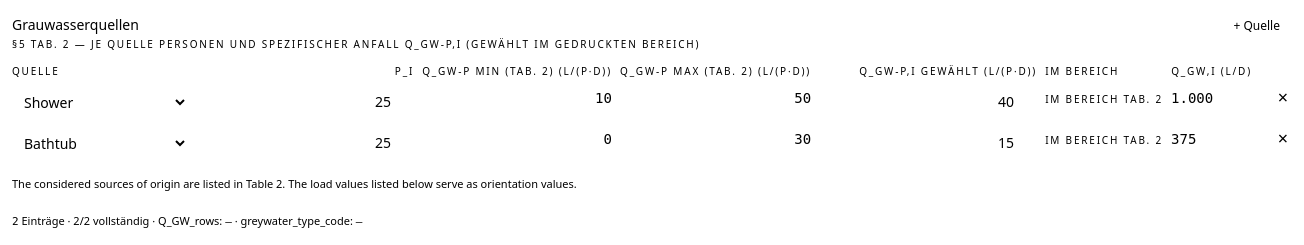
Test: grauwasserquellen through the generic RegisterEditor (Plan 3 Task 4) › a pick outside the printed range is flagged, never blocked; changing the source re-fills the range
Replace the text in the number field named "gewählter spezifischer Grauwasseranfall" in the row of "10" with "60": [928, 102] box [819,88,1037,116]
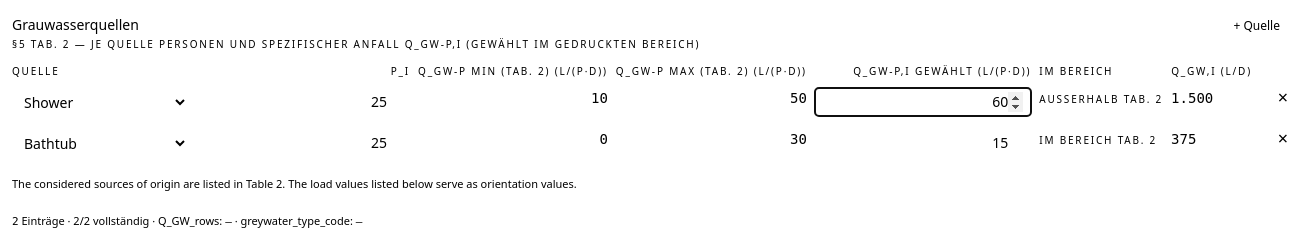
Check: the text with test id "rows-complete" reads "2/2", box [73,213,90,228]
Check: the text with test id "derived-badge-in_range" reads "außerhalb Tab. 2", box [1039,92,1163,106]
Select "Kitchen sink" in the dropdown named "Quelle" in the row of "30": [100, 144] box [12,129,188,158]
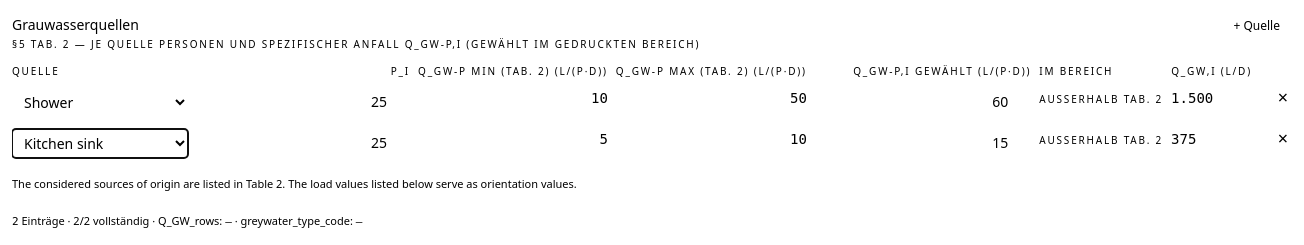
Check: the text with test id "lookup-value-q_min" reads "5", box [599,131,608,147]
Check: the text with test id "lookup-value-q_max" in the row of "375" reads "10", box [790,131,807,147]
